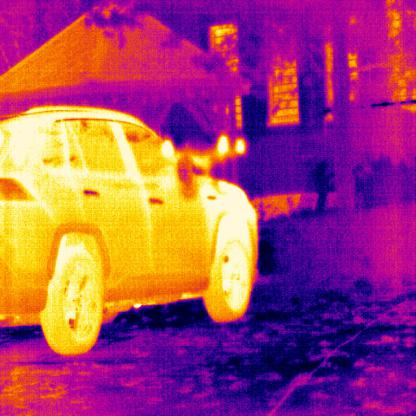drone: (160, 135, 245, 188)
